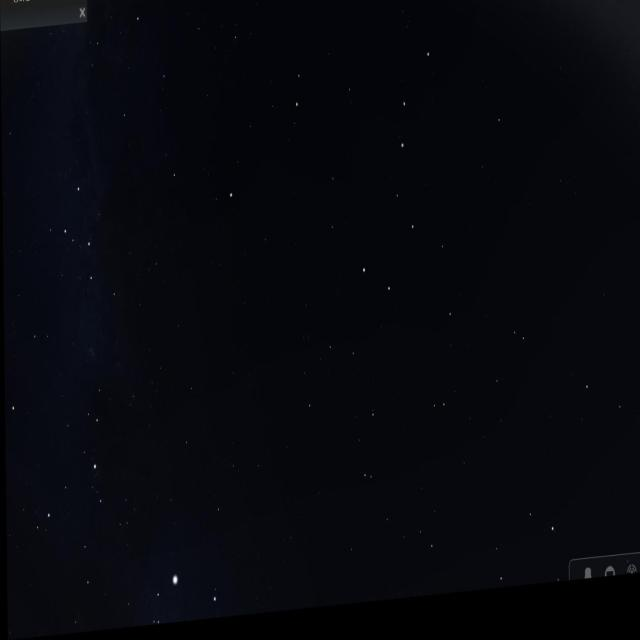cassiopeia: (59, 158, 130, 310)
ursa_major: (352, 36, 449, 332)
